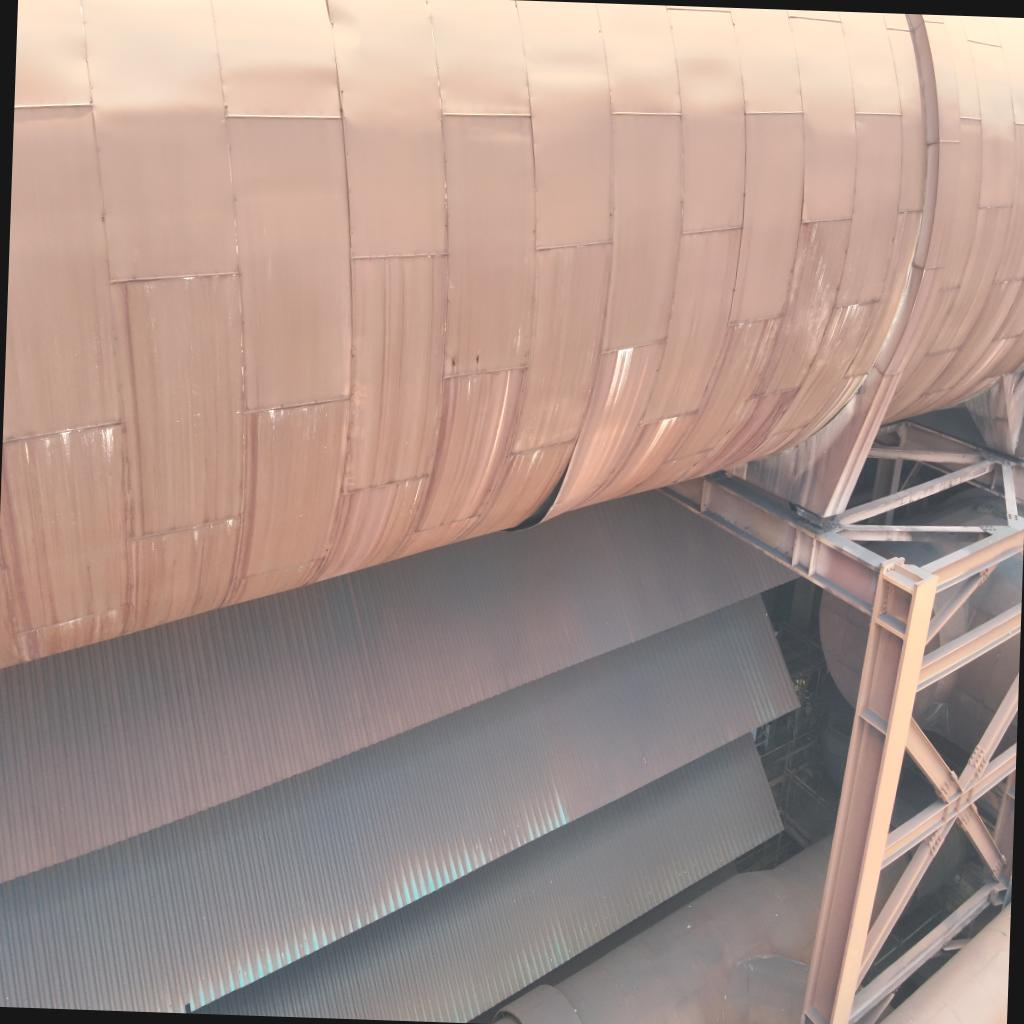Failures: (502, 332, 635, 554)
